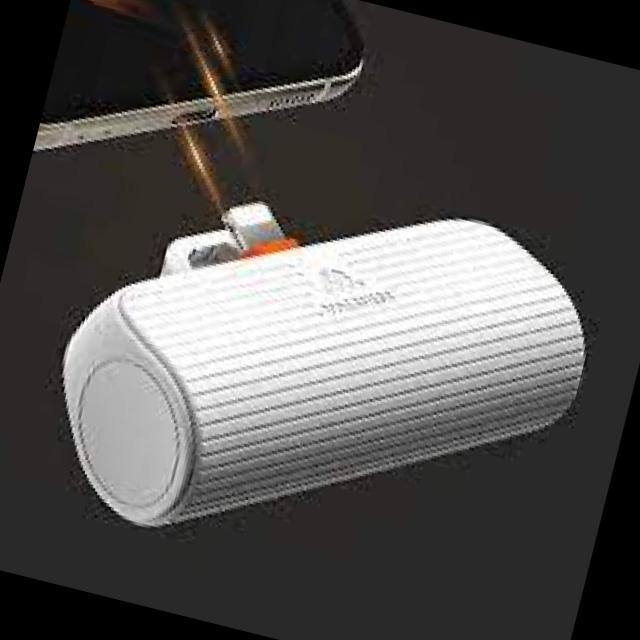portable-charger: (23, 126, 616, 621)
